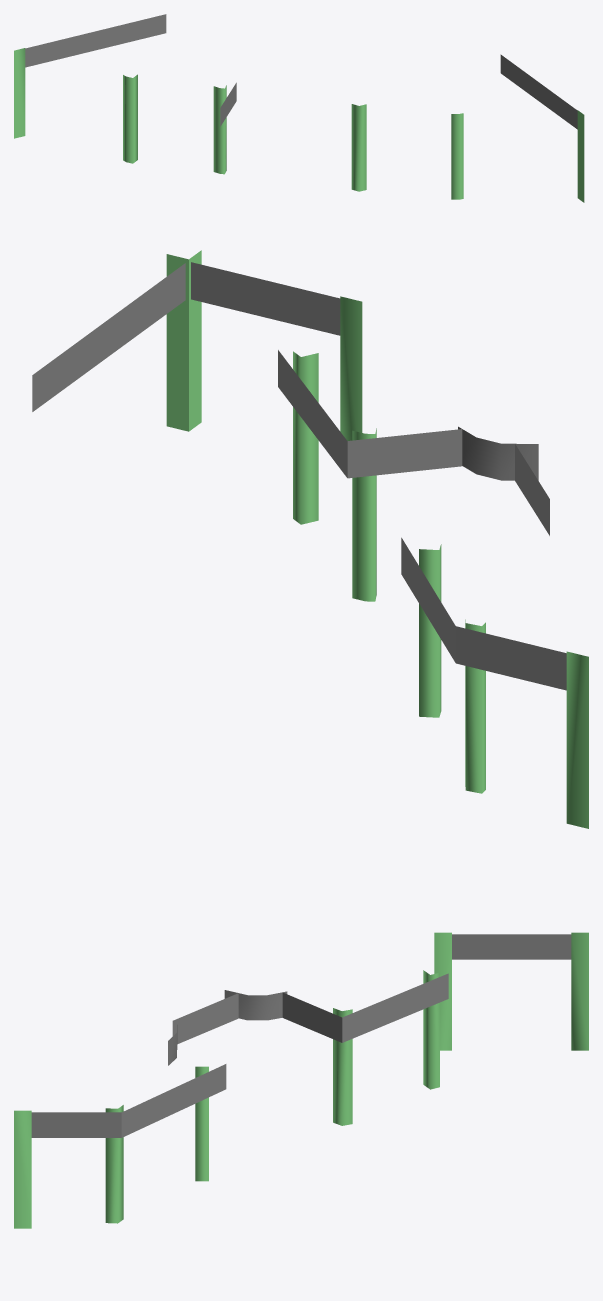
File: interior_B_delf_store_18.gltf
3 views of the same model, one above another, from view 1: azimuth 30°, elevation 25°; view 2: azimuth 150°, elevation 25°; view 3: azimuth 270°, elevation 25° (orthographic). The views are drawn at different scales.
Parts seen in each view (by area): view 1: interior_B_delf_store_18; view 2: interior_B_delf_store_18; view 3: interior_B_delf_store_18.
Part boxes in pixels (x1,y1,x2,y2): interior_B_delf_store_18: (14, 14, 584, 202); interior_B_delf_store_18: (32, 250, 588, 828); interior_B_delf_store_18: (14, 932, 588, 1228).
Size of the model in its own units: 7.37 by 1.67 by 7.36.
